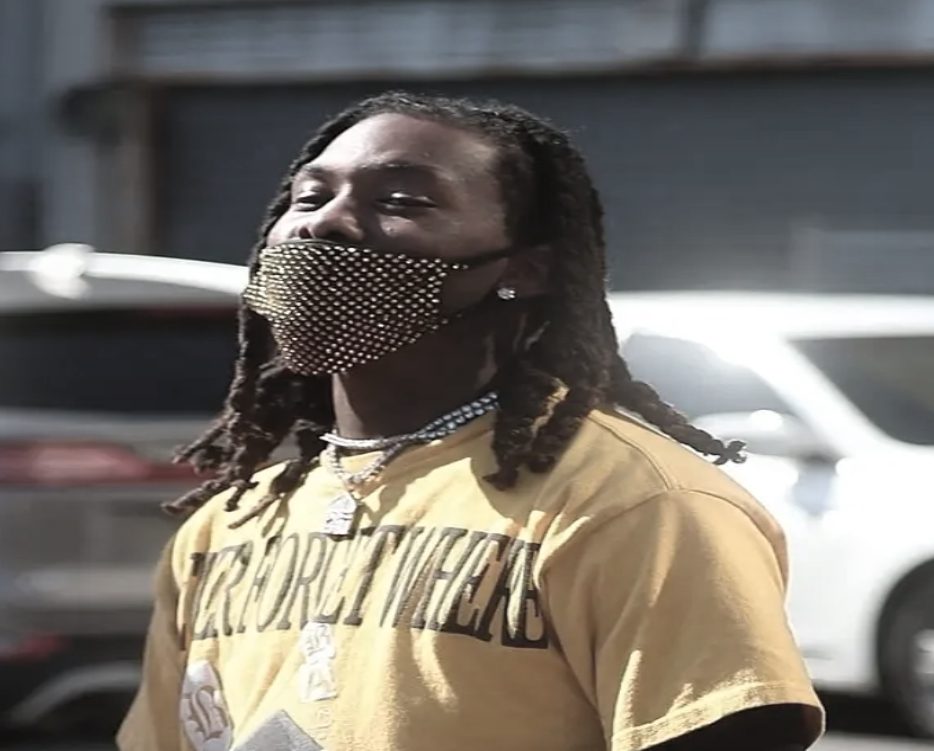mask_weared_incorrect: (235, 90, 599, 377)
